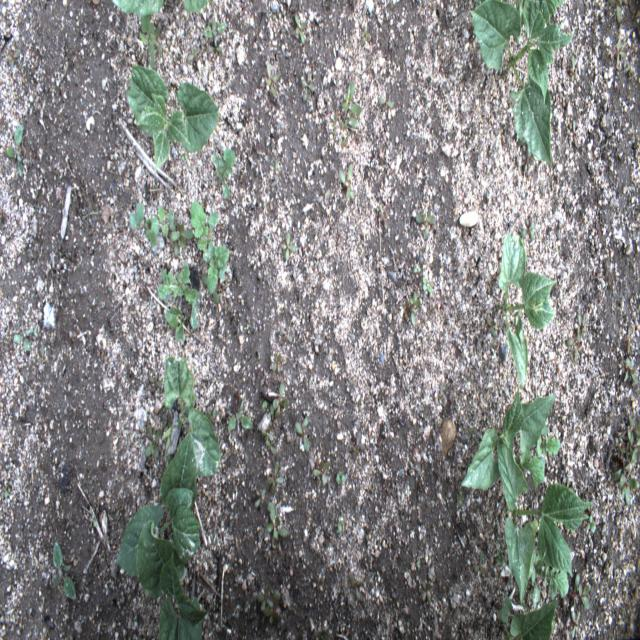crop: (469, 0, 572, 165), (496, 437, 592, 605), (116, 431, 201, 597), (126, 65, 219, 174), (461, 388, 557, 489), (496, 233, 557, 389), (161, 356, 220, 475), (159, 551, 212, 639), (520, 600, 557, 639), (166, 306, 186, 346), (112, 0, 164, 15), (182, 0, 212, 14)
weed: (156, 262, 199, 330), (516, 424, 560, 487), (529, 547, 568, 608), (612, 450, 638, 505), (190, 201, 218, 252), (53, 541, 76, 600), (204, 242, 228, 294), (211, 147, 235, 199), (129, 203, 156, 247), (140, 14, 162, 66), (499, 597, 526, 639), (7, 124, 24, 180), (566, 573, 590, 610), (267, 501, 288, 540), (149, 206, 175, 236), (228, 400, 253, 430), (415, 205, 435, 240), (341, 82, 362, 115), (144, 423, 162, 458), (614, 437, 640, 461), (338, 164, 354, 201), (294, 416, 310, 452), (170, 223, 193, 248), (566, 325, 581, 363), (267, 462, 284, 494), (273, 382, 288, 418), (266, 62, 280, 100), (263, 590, 279, 623), (202, 274, 220, 303), (280, 230, 296, 262), (408, 290, 422, 326), (12, 328, 33, 352), (202, 17, 226, 37), (349, 573, 364, 602), (294, 10, 306, 46), (312, 460, 330, 484), (625, 414, 639, 444), (302, 70, 315, 102), (607, 0, 623, 24), (623, 358, 638, 383), (519, 218, 536, 240), (7, 48, 21, 74), (258, 586, 273, 610), (342, 110, 358, 131), (473, 552, 487, 575), (574, 313, 586, 339), (207, 36, 222, 56), (170, 221, 178, 257), (616, 38, 626, 66), (571, 610, 581, 638), (569, 120, 579, 146), (149, 371, 162, 388), (187, 46, 200, 62), (486, 316, 496, 336), (262, 401, 273, 419), (331, 113, 340, 135), (317, 188, 331, 202), (161, 412, 172, 429), (255, 489, 266, 506), (272, 353, 281, 373), (586, 498, 595, 518), (422, 582, 430, 604), (468, 427, 479, 443), (361, 27, 370, 46), (4, 478, 12, 499), (36, 343, 44, 364), (422, 276, 432, 292), (280, 328, 292, 341), (262, 428, 274, 441), (206, 408, 217, 422), (456, 490, 464, 509), (66, 511, 74, 530), (378, 97, 393, 107), (628, 328, 634, 353), (588, 514, 596, 532), (336, 470, 346, 483), (268, 415, 278, 428), (338, 516, 344, 536), (266, 440, 275, 453), (571, 55, 575, 82), (244, 598, 250, 614), (164, 454, 170, 467), (637, 304, 640, 320), (180, 155, 188, 160), (414, 267, 420, 273), (275, 162, 279, 170)
